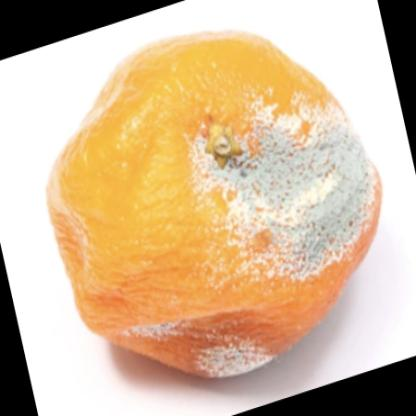rotten: (51, 35, 383, 377)
